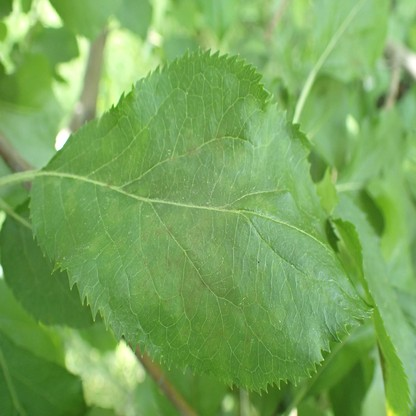scab: (130, 206, 260, 343), (237, 194, 271, 214), (297, 271, 325, 295), (65, 178, 82, 217), (107, 198, 126, 224), (231, 143, 245, 170), (210, 135, 223, 164), (86, 232, 104, 252), (184, 138, 199, 160), (274, 304, 285, 328), (103, 180, 113, 191)
